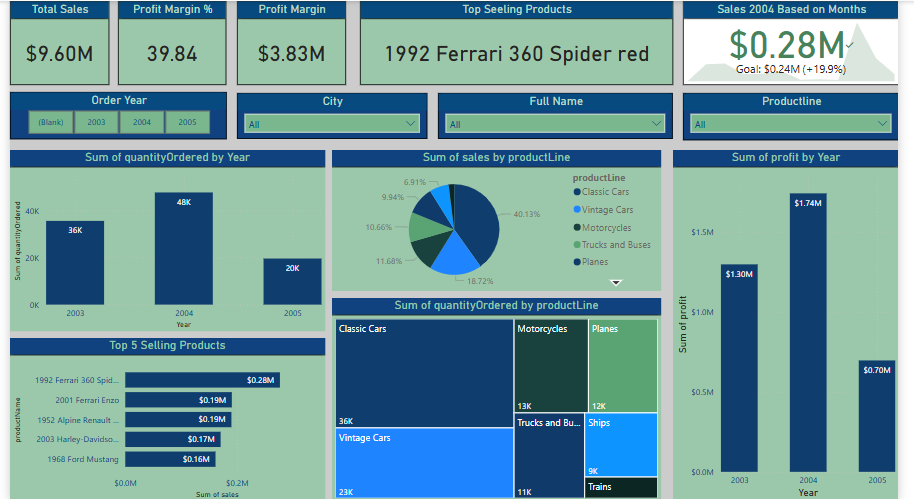

The page's visual inventory and layout, read from the dashboard file:
{"tool":"powerbi","page":{"name":"Page 1","canvas":[1280,720],"ordinal":0},"visuals":[{"type":"barChart","title":"Top 5 Selling Products","fields":{"Category":["products.productName"],"Y":["order detials.sales"]},"box":[0,485.3,453.6,234.7],"z":0},{"type":"pieChart","fields":{"Category":["products.productLine"],"Y":["order detials.sales"]},"box":[463.7,214.6,473.8,203],"z":1000},{"type":"card","title":"Top Seeling Products","fields":{"Values":["customers.MostOrderProduct"]},"box":[504,0,450.7,121],"z":2000},{"type":"card","title":"Profit Margin","fields":{"Values":["order detials.total_profit"]},"box":[326.9,0,157,121],"z":3000},{"type":"kpi","title":"Sales 2004 Based on Months","fields":{"TrendLine":["orders.Month Name"],"Indicator":["order detials.sales_2004"],"Goal":["order detials.sales_2003"]},"box":[969.1,0,311,121],"z":4000},{"type":"treemap","fields":{"Group":["productslines.productLine"],"Values":["order detials.quantityOrdered"]},"box":[463.7,427.7,473.8,292.3],"z":5000},{"type":"columnChart","fields":{"Category":["orders.Year"],"Y":["order detials.quantityOrdered"]},"box":[0,214.6,453.6,260.6],"z":6000},{"type":"card","title":"Profit Margin %","fields":{"Values":["order detials.profit_margin_%"]},"box":[155.5,0,155.5,121],"z":7000},{"type":"card","title":"Total Sales","fields":{"Values":["order detials.sales"]},"box":[0,0,142.6,121],"z":8000},{"type":"slicer","title":"City","fields":{"Values":["offices.city"]},"box":[326.9,132.5,273.6,66.2],"z":9000},{"type":"slicer","title":"Full Name","fields":{"Values":["employees.full name"]},"box":[616.3,132.5,338.4,66.2],"z":10000},{"type":"slicer","title":"Productline","fields":{"Values":["productslines.productLine"]},"box":[969.1,132.5,311,67.7],"z":11000},{"type":"slicer","title":"Order Year","fields":{"Values":["orders.Year"]},"box":[0,131,312.5,67.7],"z":12000},{"type":"columnChart","fields":{"Category":["orders.Year"],"Y":["order detials.profit"]},"box":[954.7,214.6,325.4,505.4],"z":13000}]}

Visuals, with their boxes in screenshot pixels (x1, y1, x2, y2):
"Top 5 Selling Products" barChart: (17, 332, 327, 493)
pieChart - products.productLine x order detials.sales: (334, 147, 659, 286)
"Top Seeling Products" card: (362, 0, 670, 83)
"Profit Margin" card: (240, 0, 348, 83)
"Sales 2004 Based on Months" kpi: (680, 0, 893, 83)
treemap - productslines.productLine x order detials.quantityOrdered: (334, 293, 659, 493)
columnChart - orders.Year x order detials.quantityOrdered: (17, 147, 327, 325)
"Profit Margin %" card: (123, 0, 230, 83)
"Total Sales" card: (17, 0, 114, 83)
"City" slicer: (240, 91, 428, 136)
"Full Name" slicer: (439, 91, 670, 136)
"Productline" slicer: (680, 91, 893, 137)
"Order Year" slicer: (17, 90, 231, 136)
columnChart - orders.Year x order detials.profit: (670, 147, 893, 493)
